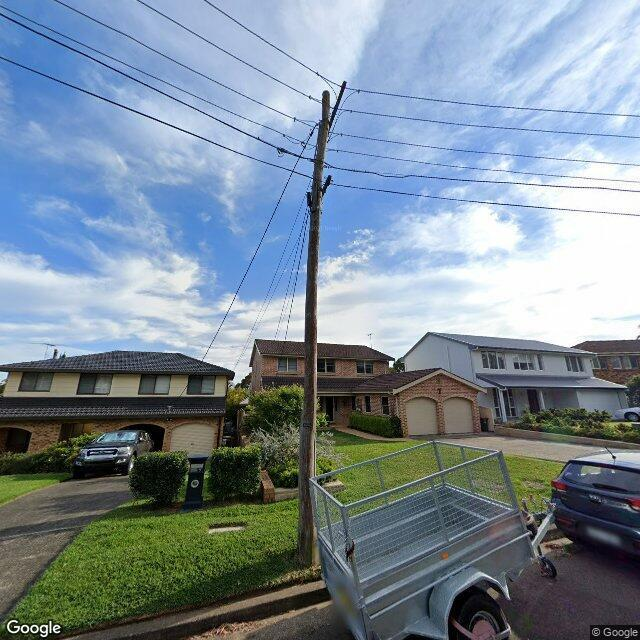crossarm: (326, 81, 348, 132), (322, 173, 333, 198)
timber-pole: (296, 87, 330, 571)
